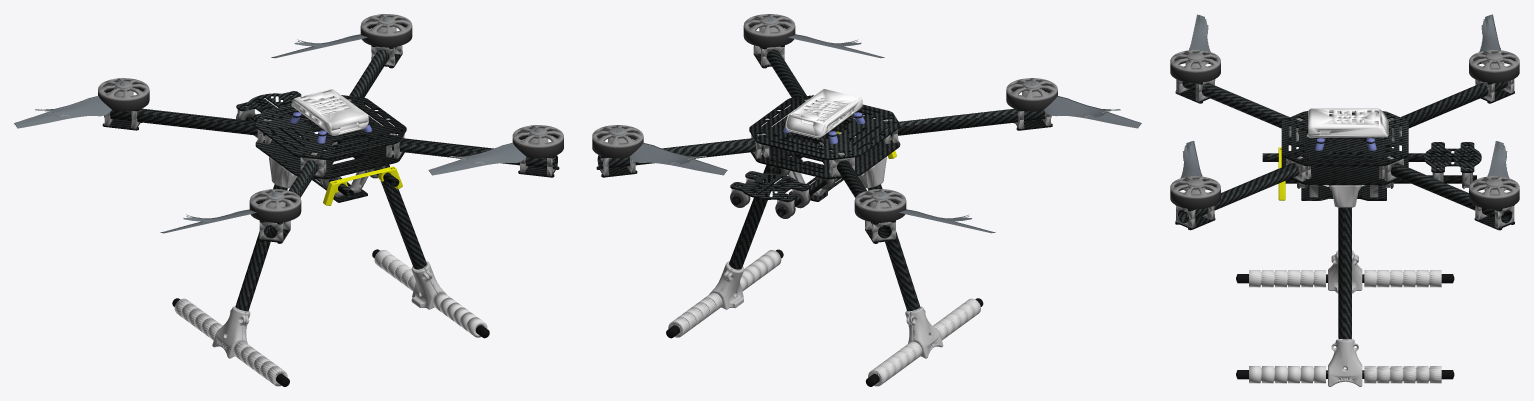
File: x500-detail.glb
The picture shows the model from 3 angles, left to right: view 1: azimuth 30°, elevation 25°; view 2: azimuth 150°, elevation 25°; view 3: azimuth 270°, elevation 25°; orthographic projection.
Parts seen in each view (by area): view 1: base_link_visual_2_CarbonFiber-mesh, base_link_visual_0_LandingFoam-mesh, base_link_visual_7_LandingPlastic-mesh, base_link_visual_5_FMUK66-mesh, base_link_visual_3_Metal-mesh, blade_front-left_1_good, blade_rear-right_1_good, rotor_1_visual_motor_top_1_Body2-mesh, rotor_0_visual_motor_bell_1_Body2-mesh, rotor_3_visual_motor_top_1_Body2-mesh, rotor_2_visual_motor_top_1_Body2-mesh, base_link_visual_6_RailsAntennaHolder-mesh (+4 smaller); view 2: base_link_visual_2_CarbonFiber-mesh, base_link_visual_0_LandingFoam-mesh, base_link_visual_7_LandingPlastic-mesh, base_link_visual_5_FMUK66-mesh, base_link_visual_3_Metal-mesh, blade_front-right_0_good, blade_rear-left_0_good, rotor_2_visual_motor_top_1_Body2-mesh, rotor_0_visual_motor_bell_1_Body2-mesh, rotor_3_visual_motor_top_1_Body2-mesh, rotor_1_visual_motor_top_1_Body2-mesh, base_link_visual_4_RailsRubber-mesh (+4 smaller); view 3: base_link_visual_2_CarbonFiber-mesh, base_link_visual_0_LandingFoam-mesh, base_link_visual_7_LandingPlastic-mesh, base_link_visual_3_Metal-mesh, base_link_visual_5_FMUK66-mesh, rotor_0_visual_motor_bell_1_Body2-mesh, rotor_3_visual_motor_top_1_Body2-mesh, rotor_1_visual_motor_top_1_Body2-mesh, rotor_2_visual_motor_top_1_Body2-mesh, rotor_1_visual_motor_top_0_Body1-mesh, rotor_2_visual_motor_top_0_Body1-mesh, rotor_0_visual_motor_bell_0_Body1-mesh (+6 smaller).
Part boxes in pixels (x1,y1,x2,y2): base_link_visual_2_CarbonFiber-mesh: [102, 45, 559, 311]; base_link_visual_0_LandingFoam-mesh: [174, 250, 487, 386]; base_link_visual_7_LandingPlastic-mesh: [212, 156, 445, 358]; base_link_visual_5_FMUK66-mesh: [291, 89, 368, 135]; base_link_visual_3_Metal-mesh: [104, 45, 557, 241]; blade_front-left_1_good: [14, 81, 125, 128]; blade_rear-right_1_good: [429, 129, 539, 175]; rotor_1_visual_motor_top_1_Body2-mesh: [249, 189, 301, 212]; rotor_0_visual_motor_bell_1_Body2-mesh: [360, 14, 412, 37]; rotor_3_visual_motor_top_1_Body2-mesh: [512, 125, 563, 148]; rotor_2_visual_motor_top_1_Body2-mesh: [98, 78, 149, 101]; base_link_visual_6_RailsAntennaHolder-mesh: [323, 166, 402, 205]; base_link_visual_2_CarbonFiber-mesh: [596, 45, 1052, 311]; base_link_visual_0_LandingFoam-mesh: [668, 250, 980, 386]; base_link_visual_7_LandingPlastic-mesh: [709, 156, 943, 358]; base_link_visual_5_FMUK66-mesh: [785, 89, 862, 138]; base_link_visual_3_Metal-mesh: [598, 45, 1051, 241]; blade_front-right_0_good: [616, 128, 726, 175]; blade_rear-left_0_good: [1030, 81, 1141, 128]; rotor_2_visual_motor_top_1_Body2-mesh: [854, 189, 906, 212]; rotor_0_visual_motor_bell_1_Body2-mesh: [592, 125, 643, 148]; rotor_3_visual_motor_top_1_Body2-mesh: [743, 14, 795, 37]; rotor_1_visual_motor_top_1_Body2-mesh: [1006, 78, 1057, 101]; base_link_visual_4_RailsRubber-mesh: [730, 166, 835, 218]; base_link_visual_2_CarbonFiber-mesh: [1175, 81, 1514, 378]; base_link_visual_0_LandingFoam-mesh: [1249, 270, 1441, 383]; base_link_visual_7_LandingPlastic-mesh: [1328, 185, 1362, 386]; base_link_visual_3_Metal-mesh: [1175, 79, 1514, 228]; base_link_visual_5_FMUK66-mesh: [1308, 108, 1388, 137]; rotor_0_visual_motor_bell_1_Body2-mesh: [1469, 176, 1519, 198]; rotor_3_visual_motor_top_1_Body2-mesh: [1170, 176, 1220, 198]; rotor_1_visual_motor_top_1_Body2-mesh: [1170, 50, 1220, 72]; rotor_2_visual_motor_top_1_Body2-mesh: [1469, 50, 1519, 72]; rotor_1_visual_motor_top_0_Body1-mesh: [1170, 53, 1220, 82]; rotor_2_visual_motor_top_0_Body1-mesh: [1469, 53, 1519, 82]; rotor_0_visual_motor_bell_0_Body1-mesh: [1469, 180, 1519, 209].
Size of the model in its own units: 8.38 by 4.46 by 6.51.
13 materials, 1 textured.
